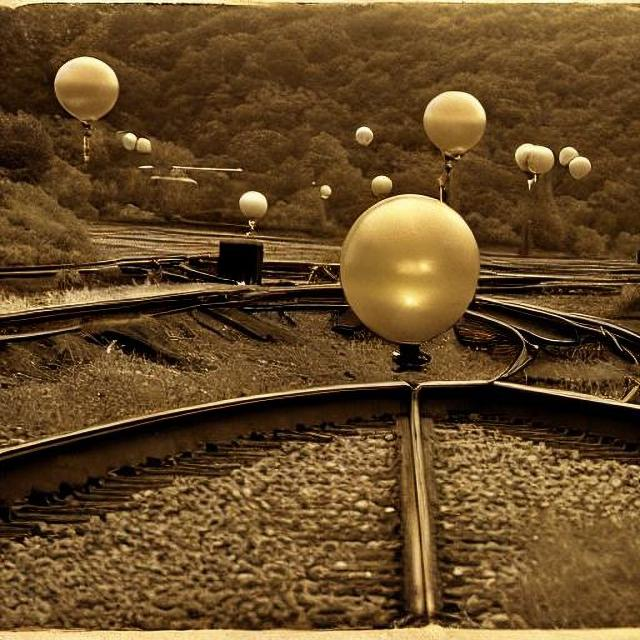balloon: (333, 193, 483, 343), (417, 86, 486, 156), (50, 53, 120, 119), (514, 142, 554, 179), (118, 125, 156, 160), (558, 144, 590, 178), (236, 188, 266, 219), (366, 174, 397, 190), (353, 123, 373, 145), (314, 176, 332, 198)
